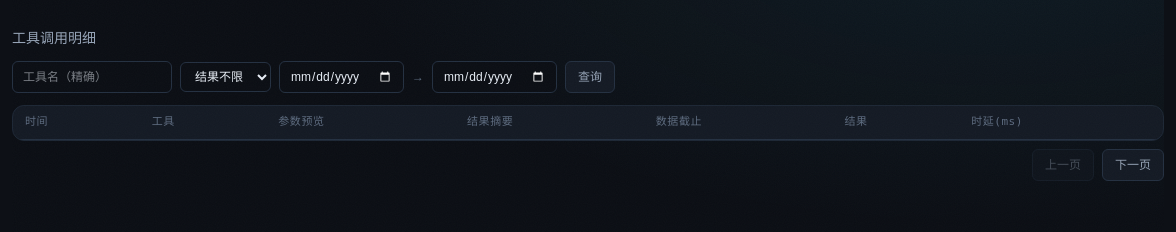
Test: 观测区块①：工具调用明细表（TraceTable） › 竞态守卫：翻页后过期的前一页响应被丢弃，仅渲染最新页数据
Click the button "下一页" at (1133, 164), box x1=1102 y1=148 x2=1164 y2=180
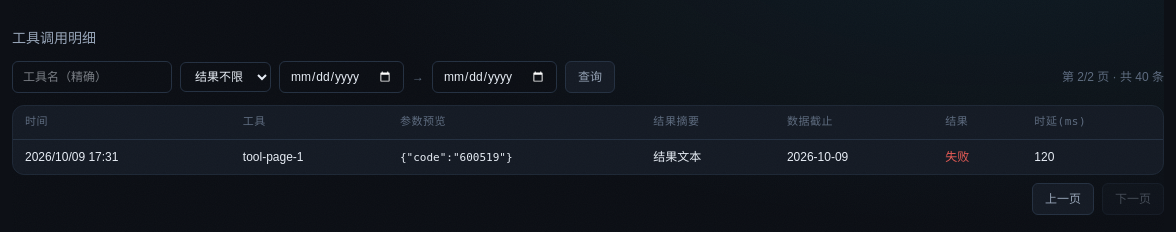
Expected: the text "tool-page-1" is shown, x1=243 y1=150 x2=304 y2=164
